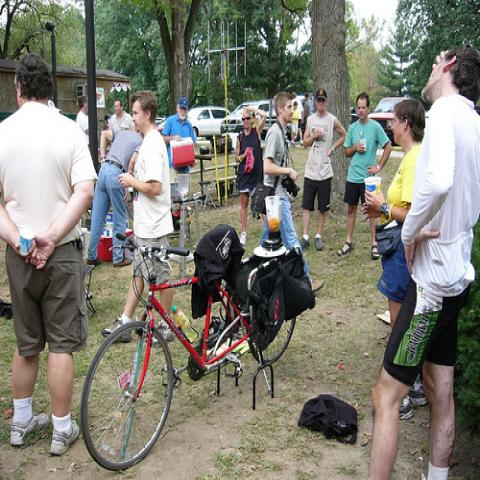car: (221, 102, 277, 133), (368, 98, 410, 138), (187, 107, 226, 140)
truck: (350, 97, 412, 147)
